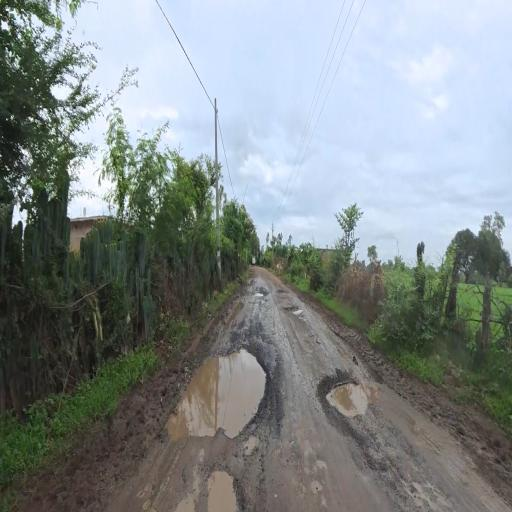pothole: (163, 324, 287, 483), (307, 336, 380, 460)
